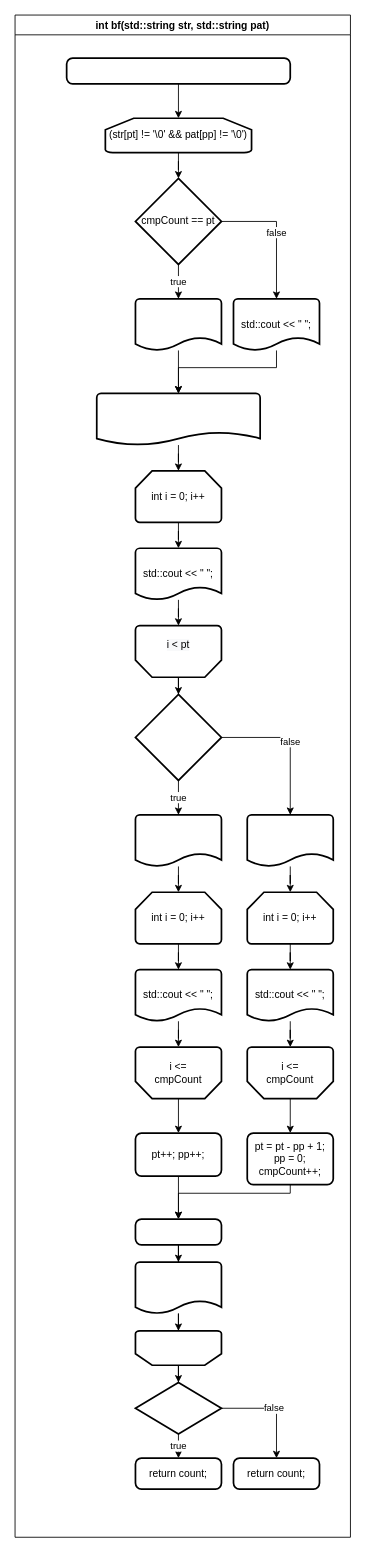
Some shapes in this 366 by 1552 pixel diagram are drawn without their labels. Each missing label, with the centre of its shape:
count++;: (178,1231)
int pt =0, pp = 0,count=0,cmpCount=0;: (178,70)
pat[pp] == '\0': (178,1407)
std::cout << "+"<<std::endl;: (178,840)
std::cout << "|" << std::endl;: (290,840)
std::cout << cmpCount;: (178,324)
std::cout << pat << std::endl; std::cout << std::endl;: (178,1287)
std::cout << str<<std::endl; std::cout << " ";: (178,418)
str[pt] == pat[pp]: (178,737)
